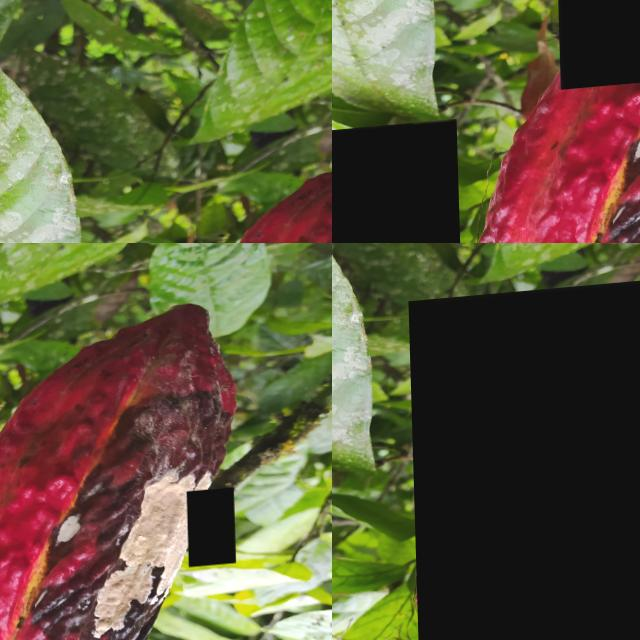Monilia: (407, 280, 640, 640)
Sana: (332, 121, 460, 243), (555, 0, 640, 94), (185, 497, 233, 575), (129, 361, 171, 418), (274, 320, 311, 361), (274, 430, 295, 461)
